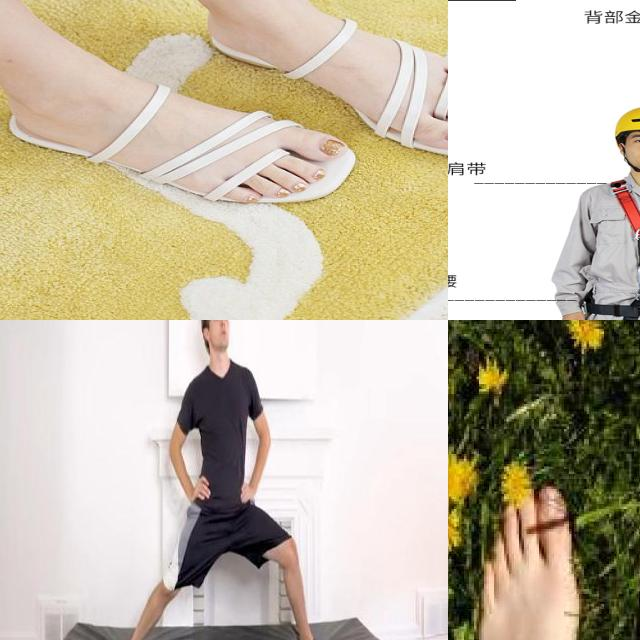Barefoots: (475, 474, 597, 640)
Harness: (584, 171, 640, 320)
No_Ear-Protection: (194, 322, 213, 344)
Sandals: (0, 0, 448, 270)
face_nomask: (213, 323, 233, 346)
hand_noglove: (180, 467, 217, 510), (234, 474, 258, 508)
person: (108, 320, 325, 640)
